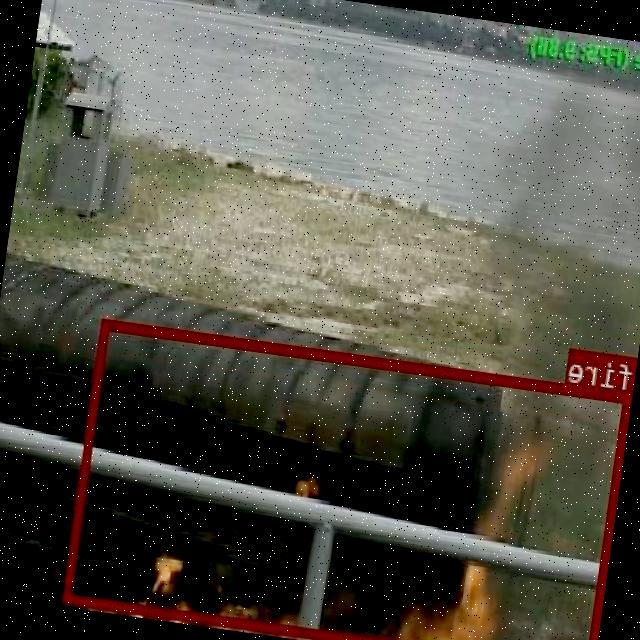fire: (63, 318, 632, 640)
